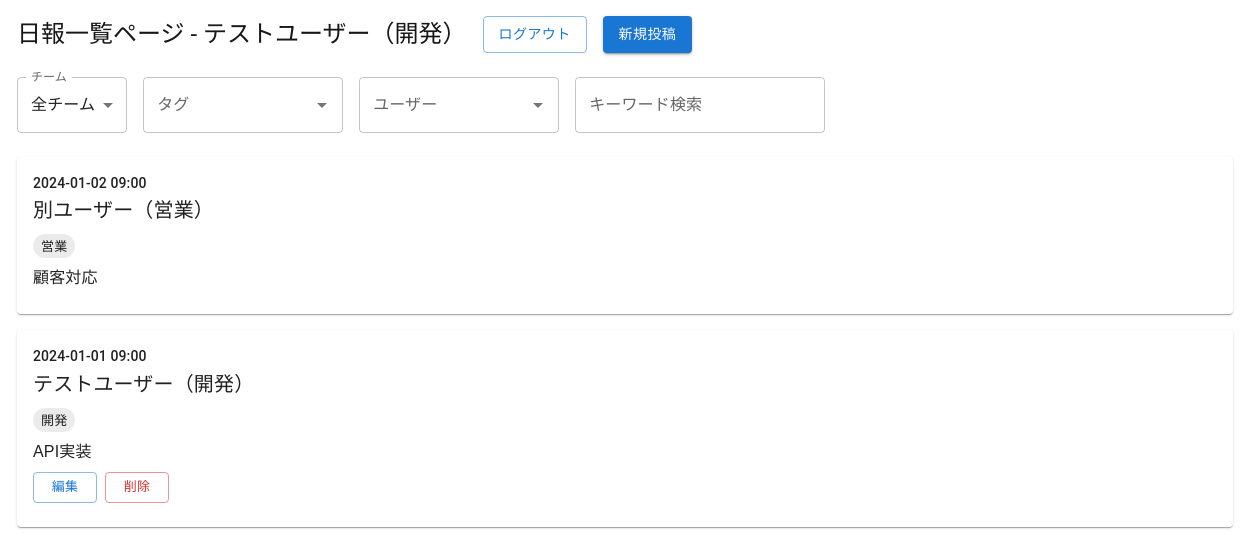
Test: ReportsPage › フィルタリング機能 › ユーザー絞り込み：別ユーザーを選ぶと該当レポートだけ表示
The image size is (1251, 546).
Press the mouse on the dropdown labelled "ユーザー" at (431, 104), box x1=368 y1=86 x2=494 y2=124
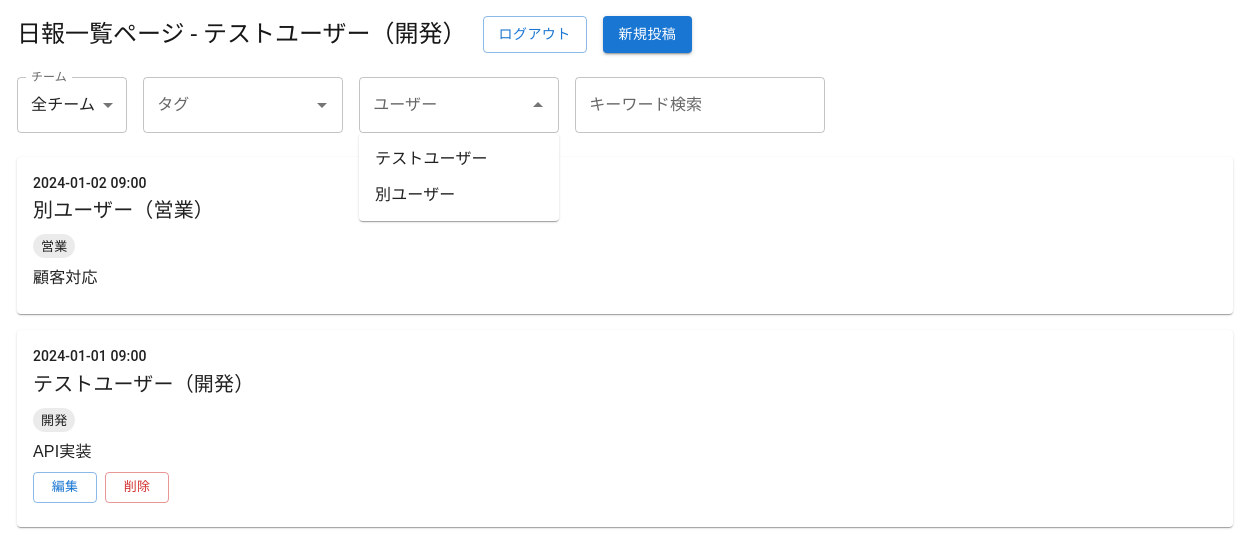
Click the option "別ユーザー" at (415, 194), box x1=375 y1=185 x2=455 y2=204
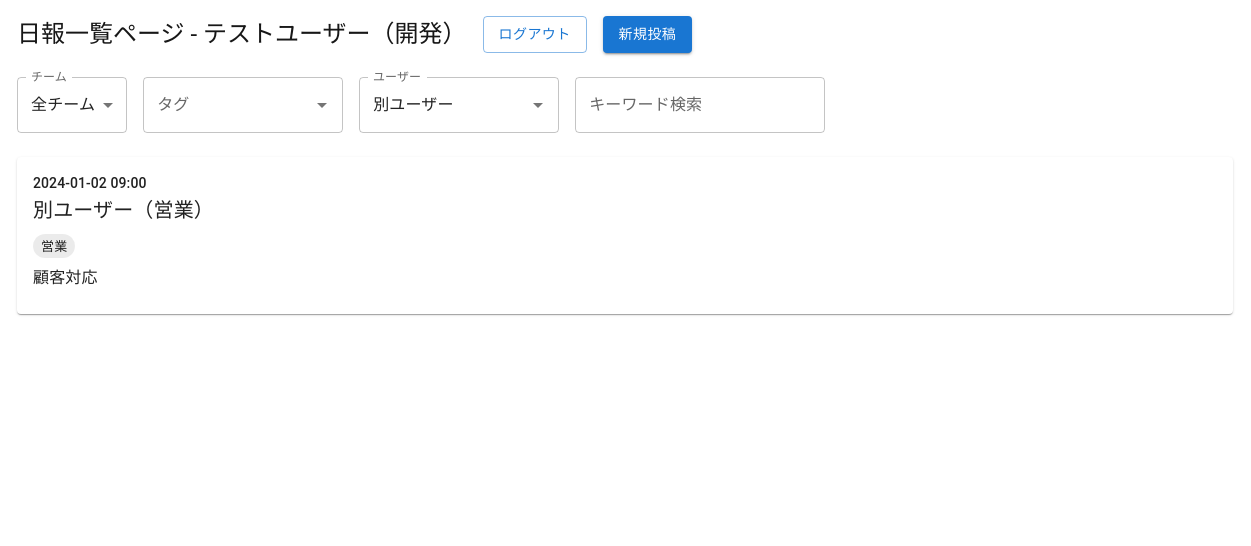
Check: the text "顧客対応" is shown, box x1=33 y1=270 x2=98 y2=286
Check: the text "API実装" is gone
